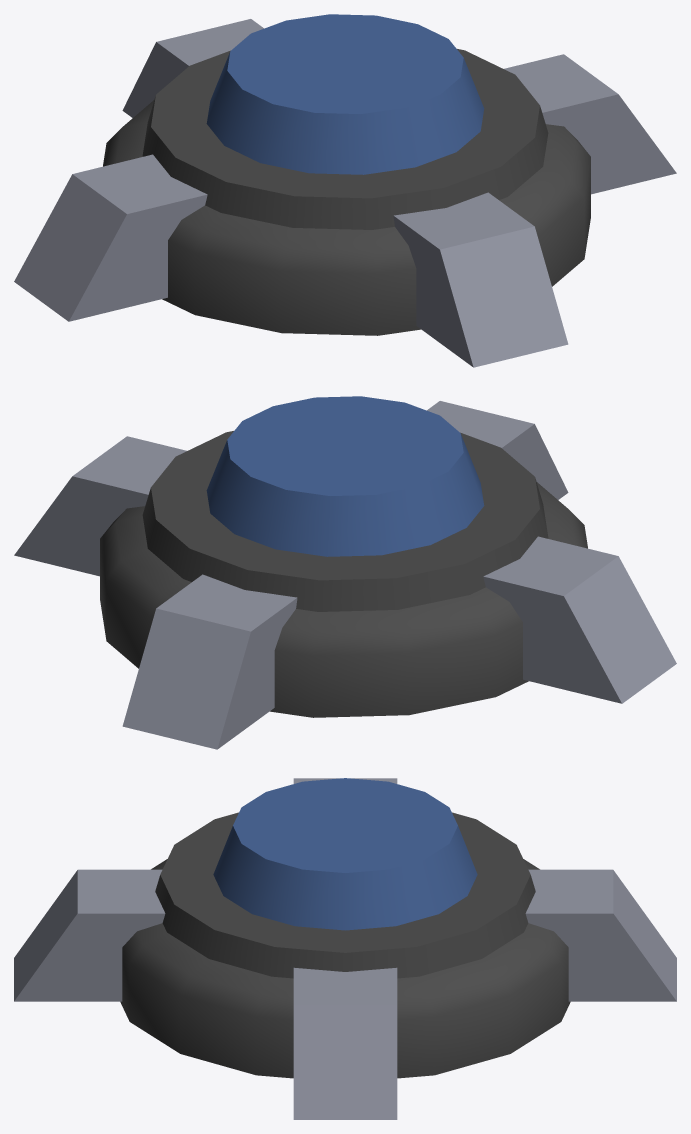
Rendered from LandmineFrost.fbx.
3 renders of one model, top to bottom at view 1: azimuth 30°, elevation 25°; view 2: azimuth 150°, elevation 25°; view 3: azimuth 270°, elevation 25°, orthographic. The views are drawn at different scales.
Visible parts, largest first — view 1: LandmineFrost; view 2: LandmineFrost; view 3: LandmineFrost.
Boxes of the visible parts, left/top/right/bottom form: LandmineFrost: left=14, top=14, right=676, bottom=367; LandmineFrost: left=14, top=396, right=676, bottom=749; LandmineFrost: left=14, top=778, right=676, bottom=1119.
Bounding box in the file's own units: 1.11 × 0.2942 × 1.11.
1 material, 1 textured.
